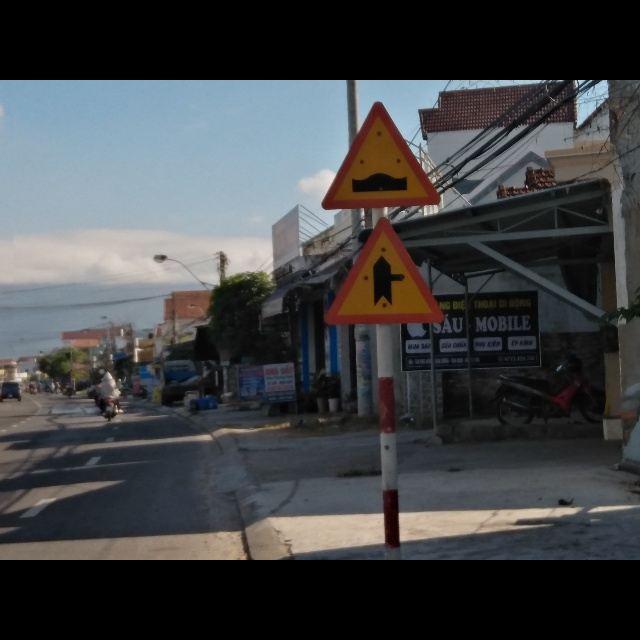Giao nhau với đường không ưu tiên: (321, 217, 445, 326)
Đường không bằng phẳng: (321, 100, 441, 211)
